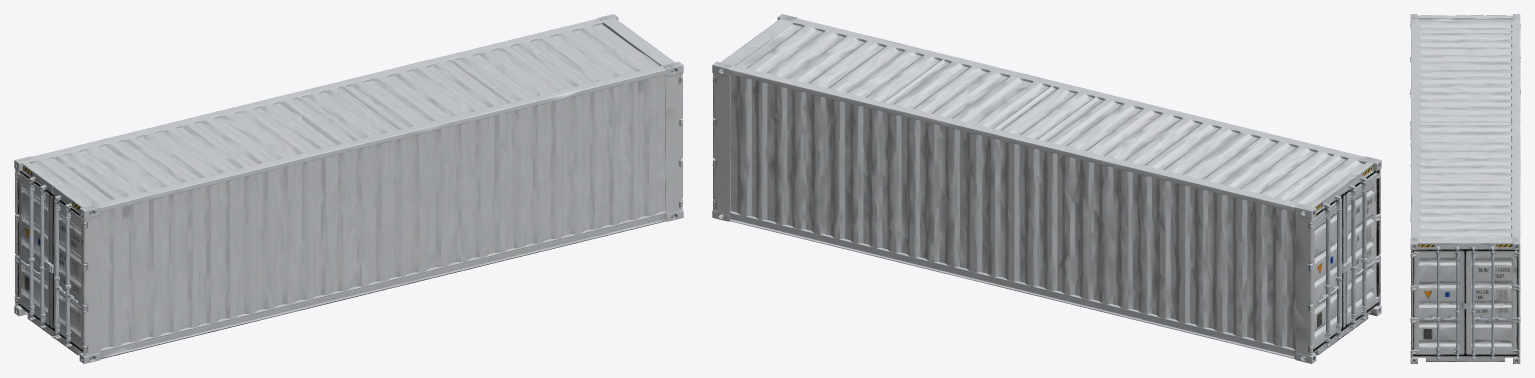
File: container_meshy.glb
3 views of the same model, side by side, from view 1: azimuth 30°, elevation 25°; view 2: azimuth 150°, elevation 25°; view 3: azimuth 270°, elevation 25° (orthographic). The views are drawn at different scales.
Parts seen in each view (by area): view 1: CONTM; view 2: CONTM; view 3: CONTM.
Part boxes in pixels (box(x1,y1,x2,y2)): CONTM: box(14, 14, 683, 363); CONTM: box(712, 14, 1381, 363); CONTM: box(1410, 14, 1520, 363).
Bounding box in the file's own units: 12.06 × 2.92 × 2.43.
1 material, 1 textured.
